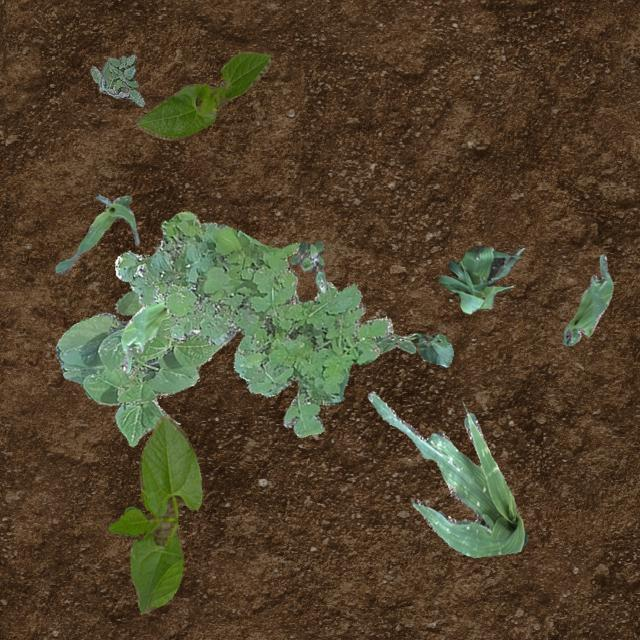crop: (366, 390, 526, 556), (54, 290, 224, 446), (108, 414, 200, 612), (136, 50, 270, 140), (54, 194, 138, 272), (438, 245, 524, 312), (562, 253, 612, 344), (120, 294, 167, 372), (372, 332, 452, 366)
weed: (115, 210, 392, 437), (90, 54, 144, 106), (290, 240, 326, 292)
